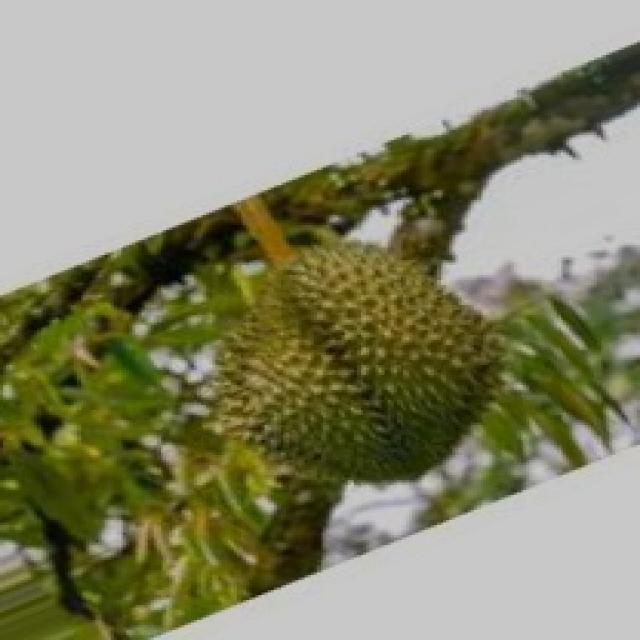fruit: (160, 188, 542, 532)
